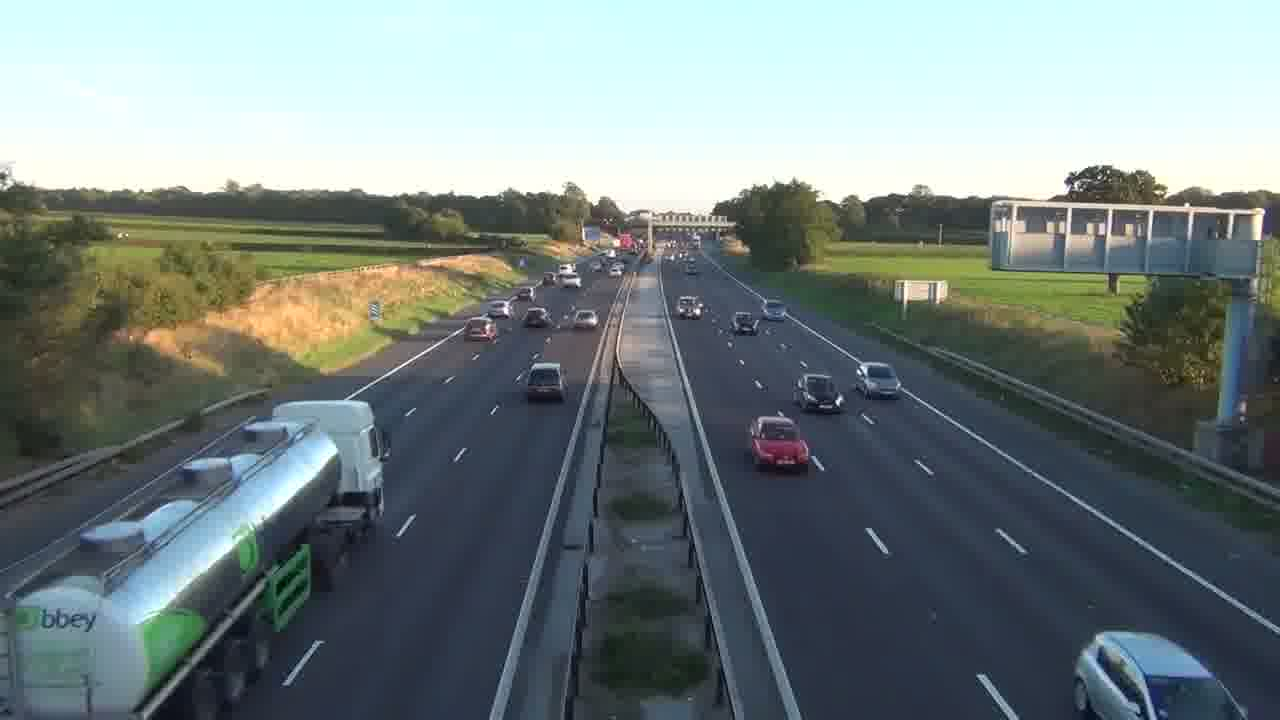car: (1070, 628, 1248, 719), (749, 414, 810, 471), (793, 371, 847, 414), (854, 360, 902, 400), (525, 362, 566, 402), (464, 317, 498, 343), (523, 306, 551, 327), (574, 308, 598, 329)
truck: (2, 407, 346, 715), (272, 399, 390, 539)
